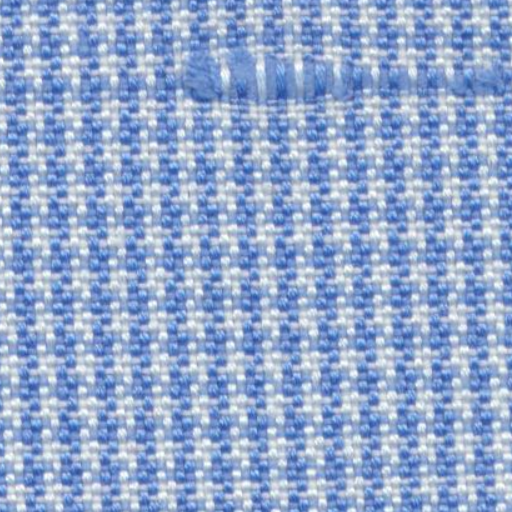DaiSha: (133, 34, 496, 112)
